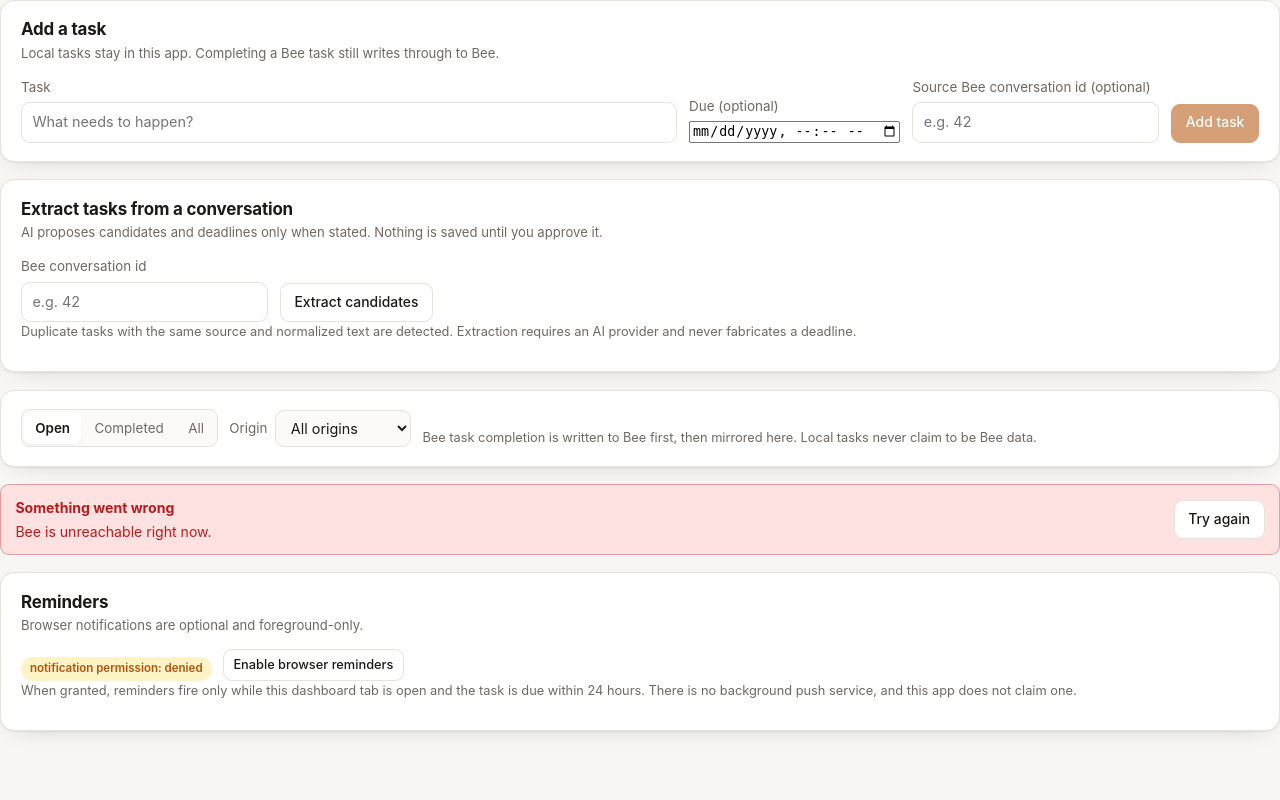
Test: Tasks page › shows the Bee error and recovers on retry
Expected: the message shows "Bee is unreachable right now.", [15,523,212,540]
Step 1. Click the button "Try again" → point(1219, 520), box [1174,500,1265,539]
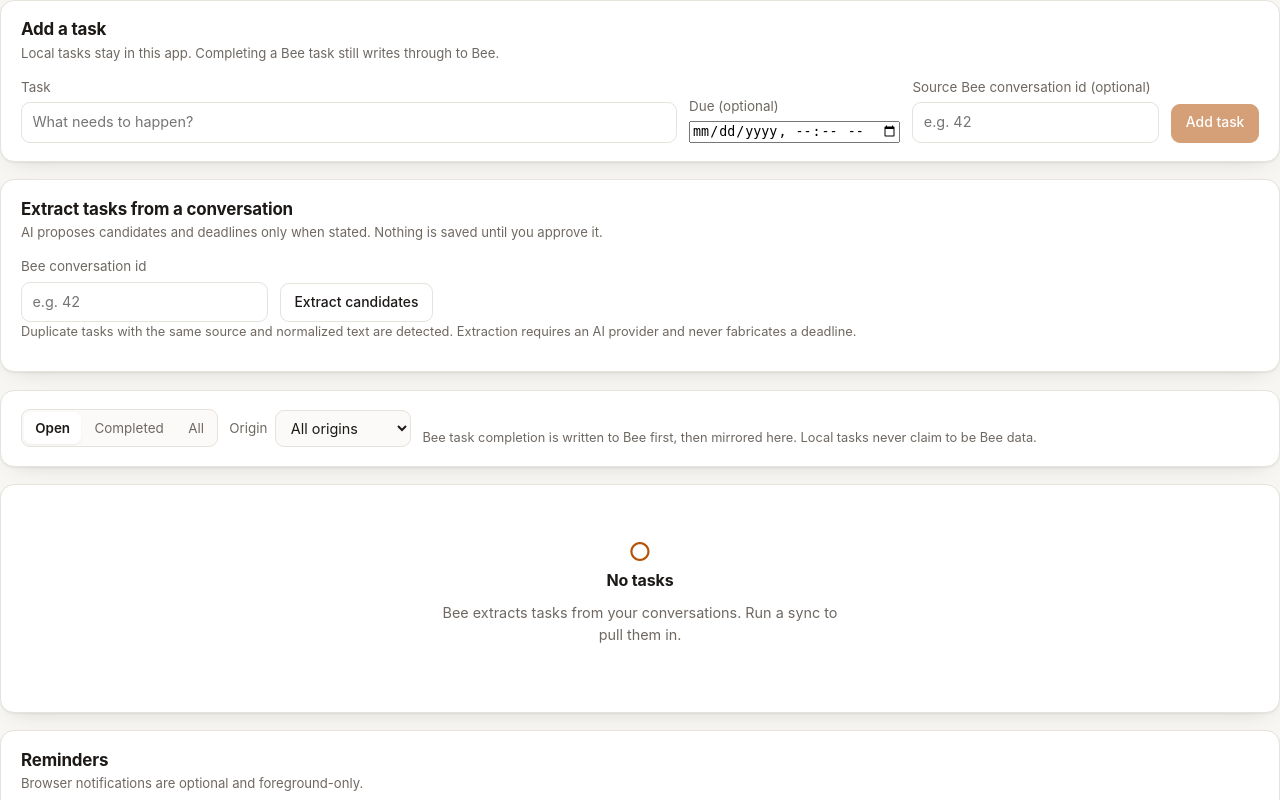
Expected: the heading "No tasks" is shown, [606,570,674,590]
